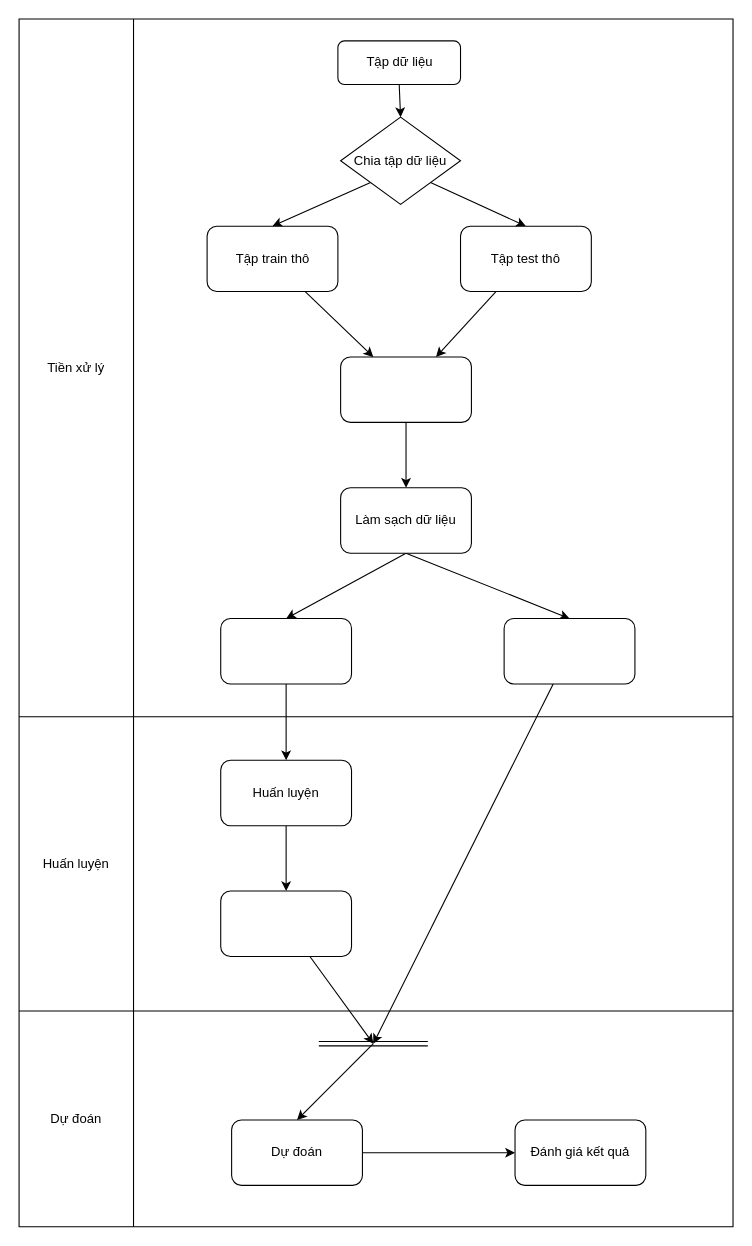
Some shapes in this 752 by 1246 pixel diagram are drawn without their labels. The shapes that lost their labels are listed below. From the top down, each one's centre as x and y in pixels, then its label:
At (x=405, y=389): "Gán nhãn dữ liệu".
At (x=286, y=650): "Tập train".
At (x=569, y=650): "Tập test".
At (x=286, y=923): "Mô hình".
